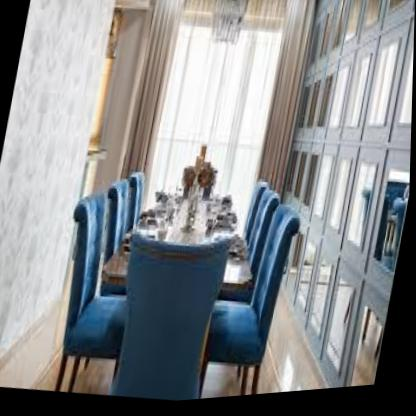Curtains: (235, 0, 318, 260)
Dining Table: (42, 118, 317, 413)
